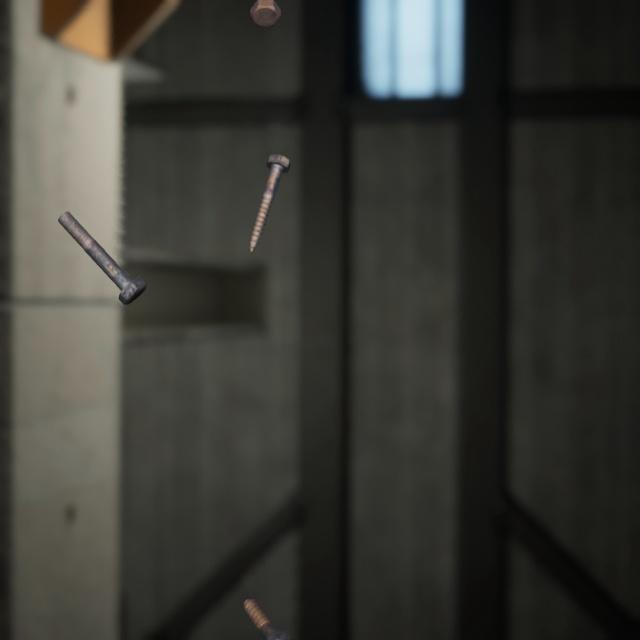bolt: (53, 190, 150, 293), (244, 134, 294, 241), (239, 570, 298, 639), (245, 0, 285, 25)
